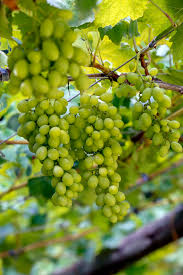grapes: (11, 25, 83, 209), (74, 95, 132, 235), (121, 72, 183, 163)
